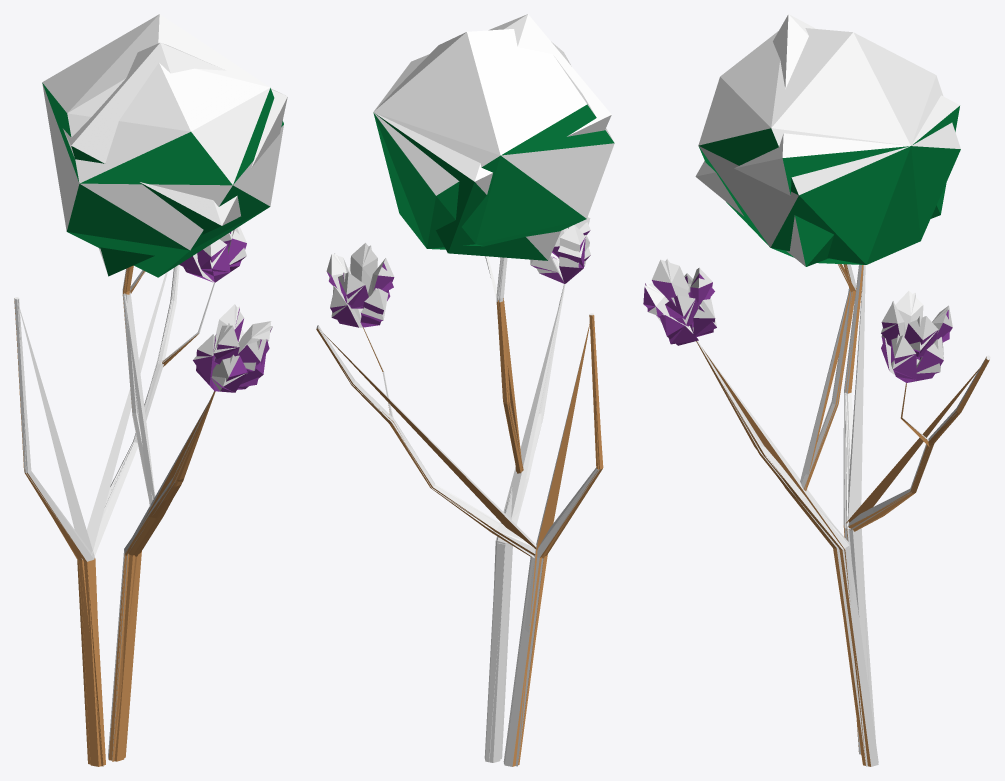
The model's file is V17_Bush_3_Snowy.fbx.
3 views of the same model, side by side, from view 1: azimuth 30°, elevation 25°; view 2: azimuth 150°, elevation 25°; view 3: azimuth 270°, elevation 25° (orthographic). The views are drawn at different scales.
Visible parts, largest first — view 1: V17 Bush 3_LOD0_Snowy, V17 Bush 3_LOD3_Snowy, V17 Bush 3_LOD1_Snowy, V17 Bush 3_LOD2_Snowy; view 2: V17 Bush 3_LOD0_Snowy, V17 Bush 3_LOD3_Snowy, V17 Bush 3_LOD1_Snowy, V17 Bush 3_LOD2_Snowy; view 3: V17 Bush 3_LOD0_Snowy, V17 Bush 3_LOD3_Snowy, V17 Bush 3_LOD1_Snowy, V17 Bush 3_LOD2_Snowy.
Part boxes in pixels (x1,y1,x2,y2): V17 Bush 3_LOD0_Snowy: (14,14,283,766); V17 Bush 3_LOD3_Snowy: (20,42,287,766); V17 Bush 3_LOD1_Snowy: (14,230,263,766); V17 Bush 3_LOD2_Snowy: (31,228,272,762); V17 Bush 3_LOD0_Snowy: (316,29,614,766); V17 Bush 3_LOD3_Snowy: (323,14,611,766); V17 Bush 3_LOD1_Snowy: (316,217,603,765); V17 Bush 3_LOD2_Snowy: (328,222,597,762); V17 Bush 3_LOD0_Snowy: (643,28,990,766); V17 Bush 3_LOD3_Snowy: (695,14,979,766); V17 Bush 3_LOD1_Snowy: (647,264,989,766); V17 Bush 3_LOD2_Snowy: (645,259,956,761).
Bounding box in the file's own units: 36.11 × 103 × 43.04.
